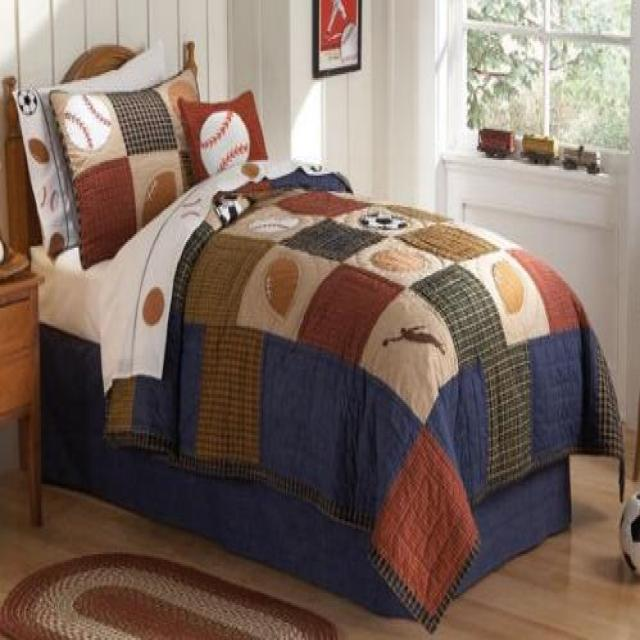bed: (2, 38, 576, 622)
